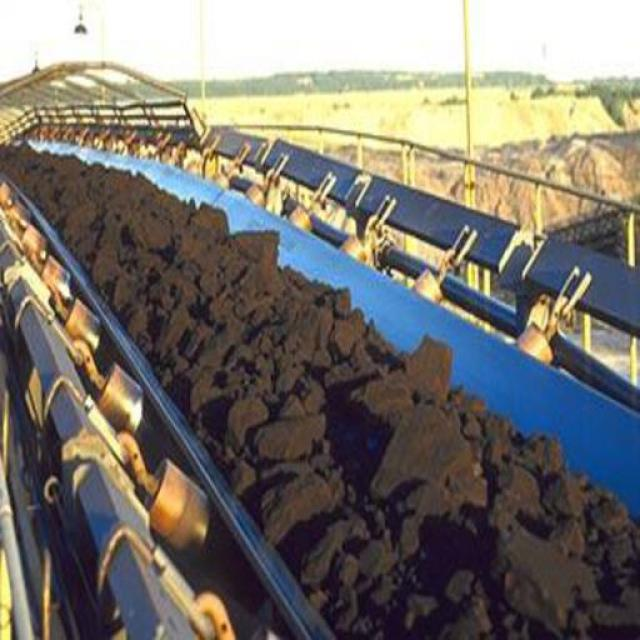conveyor: (0, 136, 640, 640)
